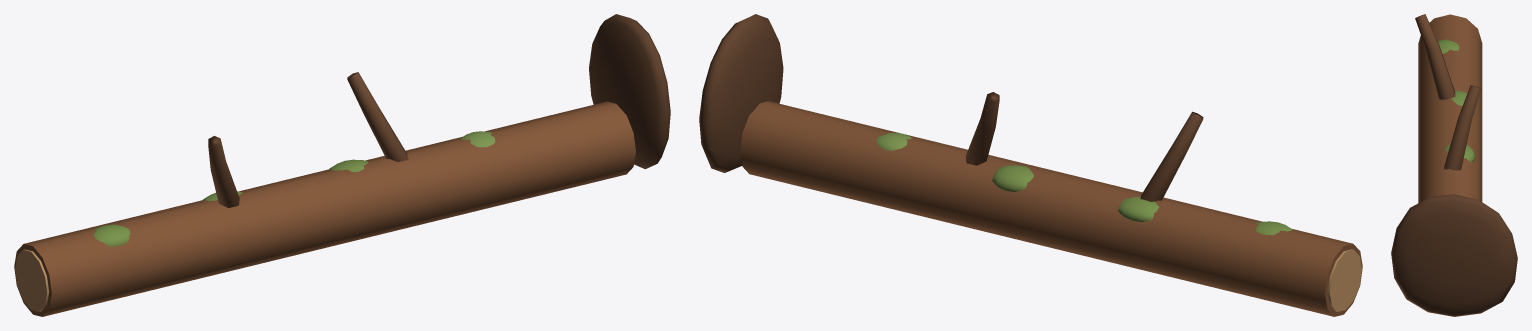
The model's file is fallen_tree.glb.
3 views of the same model, side by side, from view 1: azimuth 30°, elevation 25°; view 2: azimuth 150°, elevation 25°; view 3: azimuth 270°, elevation 25° (orthographic). The views are drawn at different scales.
Visible parts, largest first — view 1: body; view 2: body; view 3: body.
Part boxes in pixels (left/top/right/bottom): body: left=14, top=14, right=670, bottom=316; body: left=699, top=14, right=1362, bottom=316; body: left=1391, top=14, right=1517, bottom=316.
Size of the model in its own units: 7.94 by 1.83 by 1.67.
